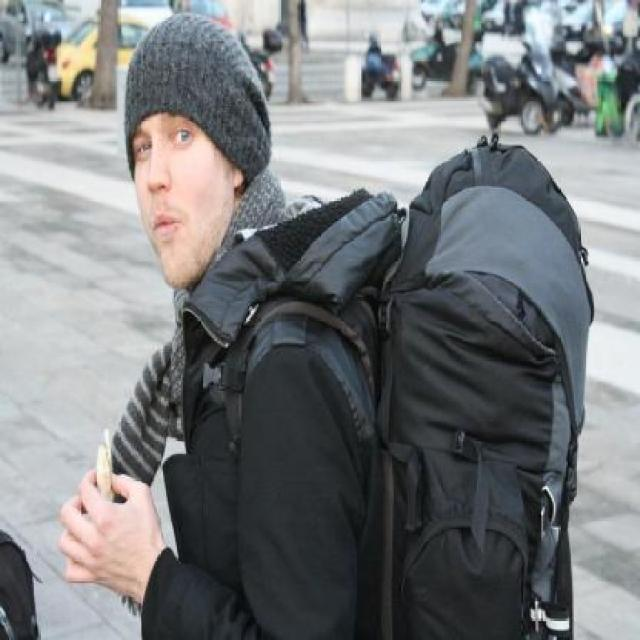backpack: (374, 124, 597, 640)
